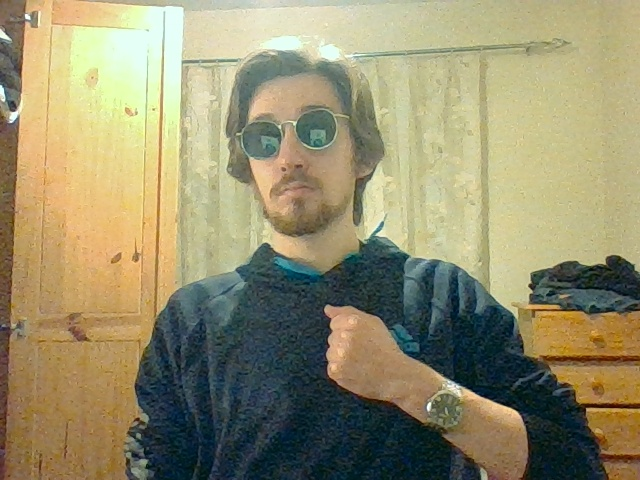my: (324, 304, 396, 399)
